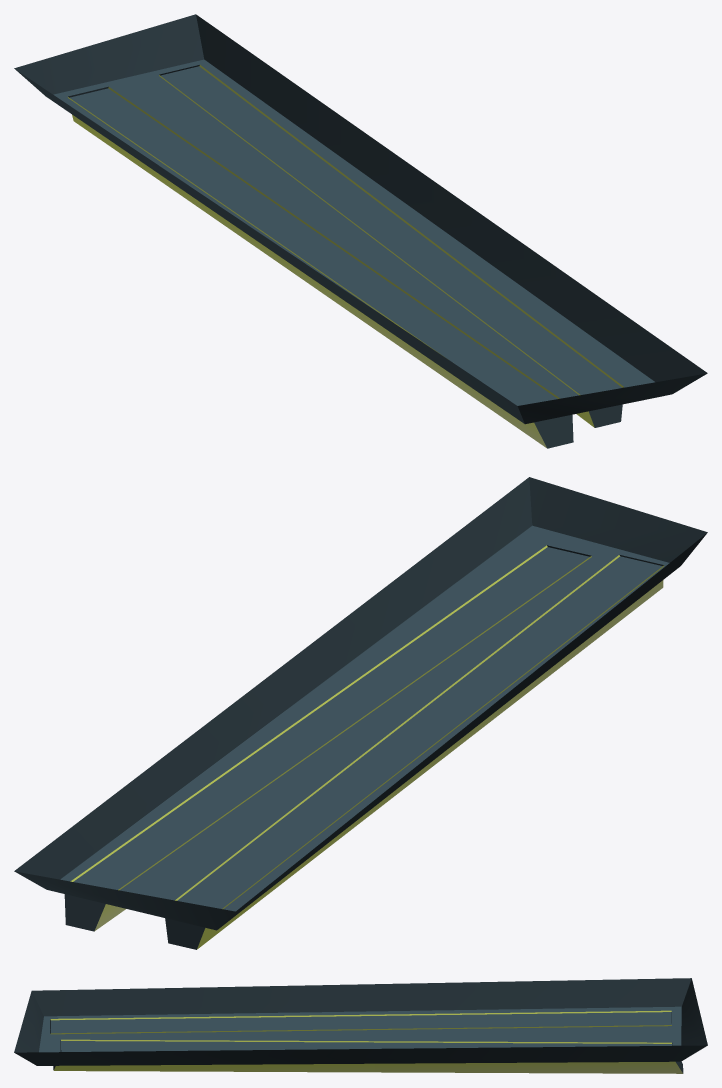
File: c_light_fluorescent_aa.fbx
The picture shows the model from 3 angles, top to bottom: view 1: azimuth 30°, elevation 25°; view 2: azimuth 150°, elevation 25°; view 3: azimuth 270°, elevation 25°; orthographic projection. The views are drawn at different scales.
Parts seen in each view (by area): view 1: c_light_fluorescent_aa; view 2: c_light_fluorescent_aa; view 3: c_light_fluorescent_aa.
Boxes of the visible parts, x1,y1,x2,y2 form: c_light_fluorescent_aa: [14, 14, 707, 448]; c_light_fluorescent_aa: [14, 477, 707, 949]; c_light_fluorescent_aa: [14, 978, 707, 1073].
Bounding box in the file's own units: 0.3871 × 0.1014 × 1.57.
